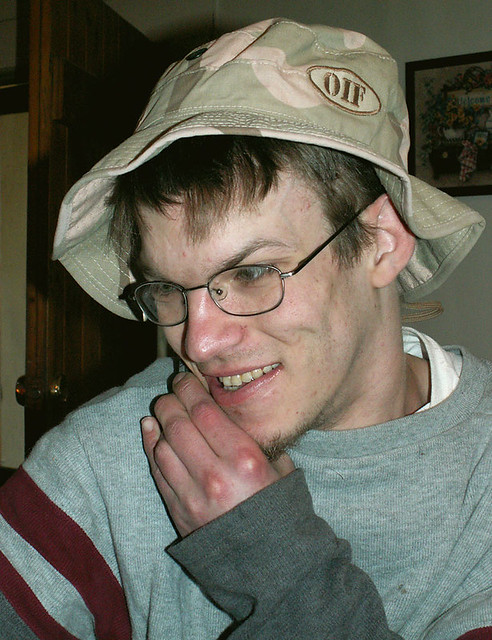phone: (145, 311, 211, 434)
